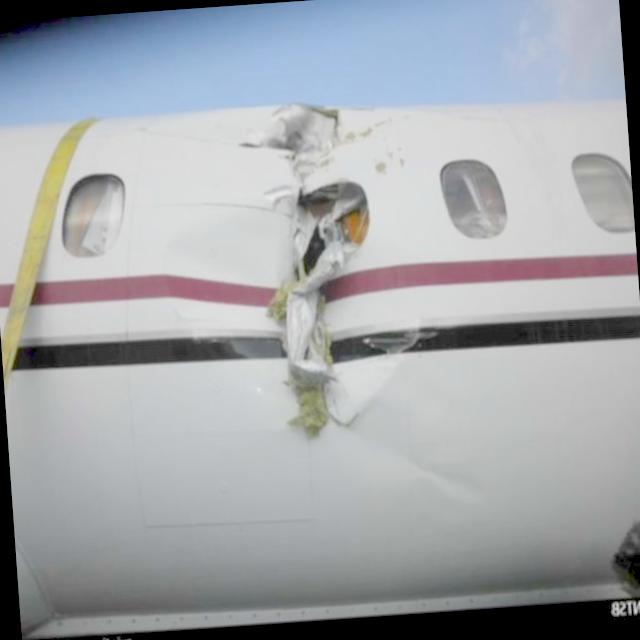crack: (229, 86, 392, 455)
dent: (161, 204, 270, 360), (338, 418, 486, 517)
